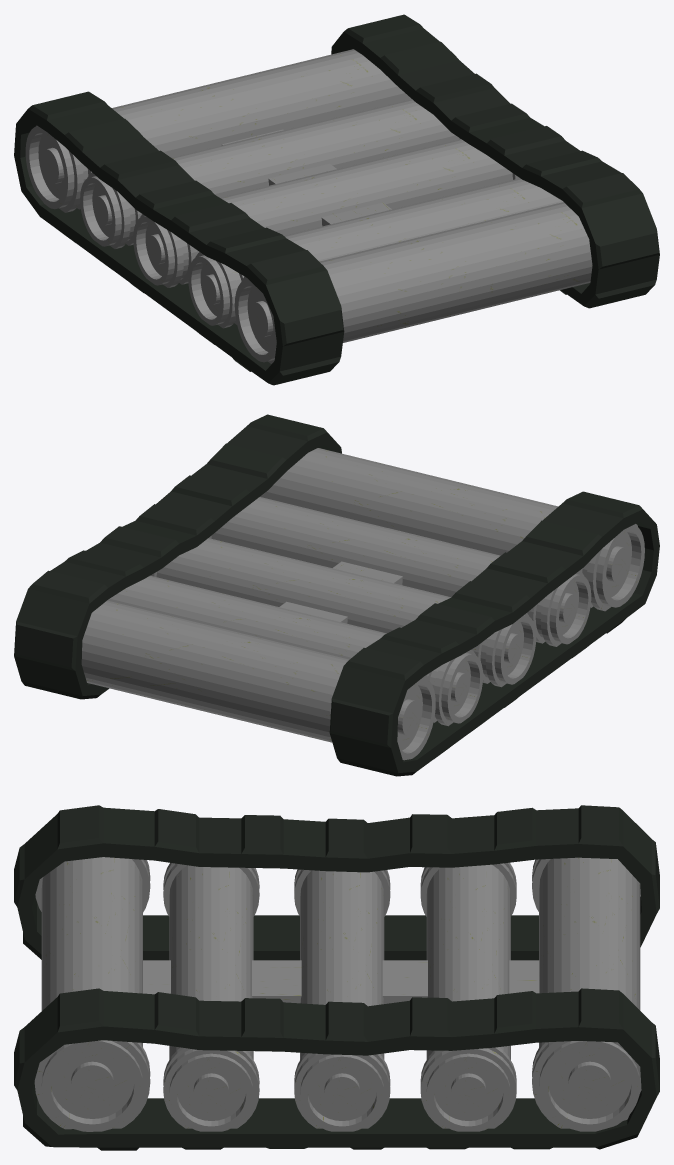
The model's file is Abaseframe.fbx.
3 views of the same model, one above another, from view 1: azimuth 30°, elevation 25°; view 2: azimuth 150°, elevation 25°; view 3: azimuth 270°, elevation 25° (orthographic). The views are drawn at different scales.
Parts seen in each view (by area): view 1: TreadMount, Tread.001, Tread; view 2: TreadMount, Tread.001, Tread; view 3: TreadMount, Tread, Tread.001.
Part boxes in pixels (box(x1,y1,x2,y2)): TreadMount: box(25, 49, 592, 363); Tread.001: box(14, 91, 344, 385); Tread: box(331, 14, 659, 308); TreadMount: box(81, 448, 644, 760); Tread.001: box(329, 491, 659, 776); Tread: box(14, 414, 341, 699); TreadMount: box(34, 857, 641, 1131); Tread: box(14, 988, 659, 1150); Tread.001: box(14, 805, 659, 960).
Bounding box in the file's own units: 1532 × 1228 × 339.
